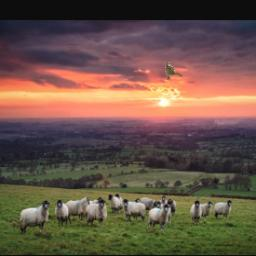Sparrow: (164, 61, 183, 80)
